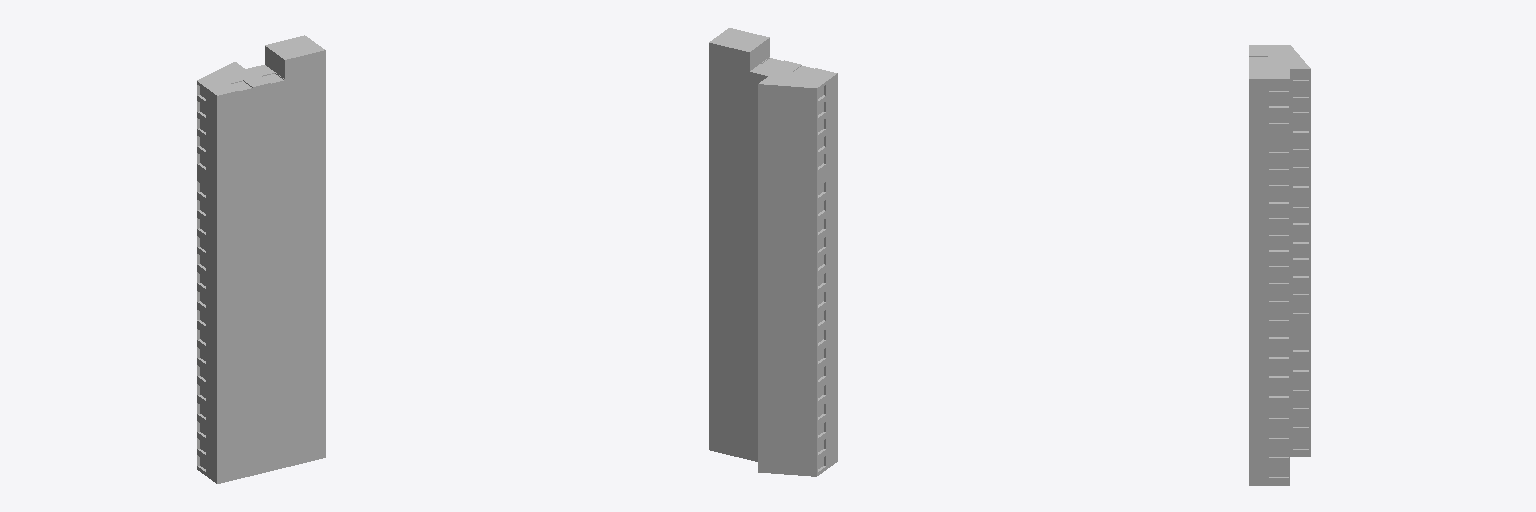
The model's file is Zst Warsztaty.obj.
The picture shows the model from 3 angles: view 1: azimuth 30°, elevation 25°; view 2: azimuth 150°, elevation 25°; view 3: azimuth 270°, elevation 25°; orthographic projection.
Visible parts, largest first — view 1: ZST_Warsztaty_obj_0; view 2: ZST_Warsztaty_obj_0; view 3: ZST_Warsztaty_obj_0.
Boxes of the visible parts, <box> form: ZST_Warsztaty_obj_0: <box>197,35,325,483</box>; ZST_Warsztaty_obj_0: <box>709,28,837,476</box>; ZST_Warsztaty_obj_0: <box>1249,45,1310,485</box>.
Size of the model in its own units: 0.014 by 0.0503 by 0.0069.